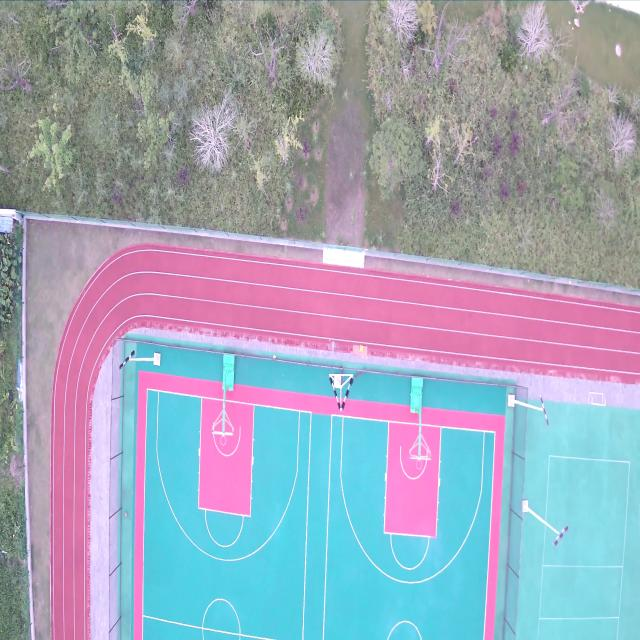UAV: (328, 340, 338, 356)
